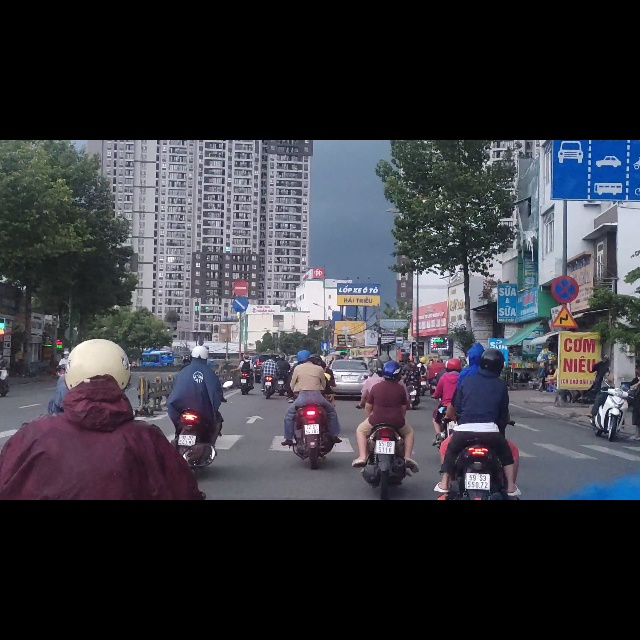bien_cam: (551, 1, 640, 110), (551, 241, 578, 290), (551, 293, 578, 337), (233, 249, 248, 277), (233, 280, 248, 306), (395, 348, 403, 368), (321, 359, 330, 374)
